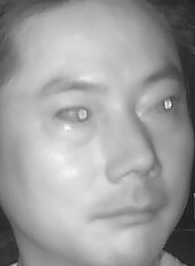eye: (50, 103, 97, 130), (144, 94, 183, 119)
mouth: (88, 191, 165, 232)
